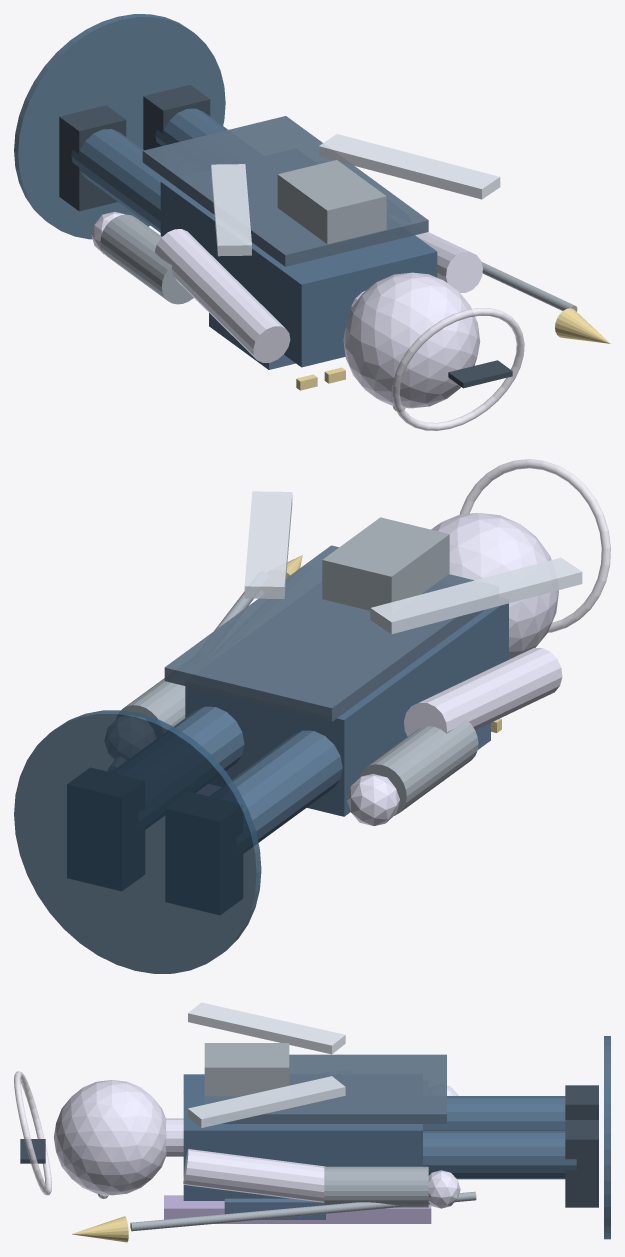
The model's file is SW_NPC_026_asha_voidson.glb.
The picture shows the model from 3 angles, top to bottom: view 1: azimuth 30°, elevation 25°; view 2: azimuth 150°, elevation 25°; view 3: azimuth 270°, elevation 25°; orthographic projection. The views are drawn at different scales.
Parts seen in each view (by area): view 1: round_base_plate, torso_uniform, storm_cloak, head, left_upper_arm, wingpack_core, left_leg, right_wing_rig, left_forearm_gauntlet, left_boot, left_wing_rig, lunar_crescent_ring (+7 smaller); view 2: round_base_plate, storm_cloak, torso_uniform, wingpack_core, head, left_upper_arm, left_leg, left_wing_rig, left_forearm_gauntlet, right_wing_rig, lunar_crescent_ring, right_leg (+2 smaller); view 3: torso_uniform, storm_cloak, head, right_leg, right_upper_arm, wingpack_core, left_leg, right_forearm_gauntlet, right_wing_rig, left_wing_rig, rank_sash, right_boot (+9 smaller).
Boxes of the visible parts, x1,y1,x2,y2 form: round_base_plate: (14,14,225,239); torso_uniform: (160,180,437,367); storm_cloak: (142,116,428,266); head: (343,272,480,408); left_upper_arm: (154,229,290,362); wingpack_core: (277,160,386,244); left_leg: (71,129,166,232); right_wing_rig: (319,134,500,199); left_forearm_gauntlet: (100,214,193,304); left_boot: (59,105,126,211); left_wing_rig: (211,164,251,256); lunar_crescent_ring: (392,308,524,430); round_base_plate: (14,710,261,973); storm_cloak: (164,545,484,721); torso_uniform: (185,603,508,816); wingpack_core: (322,517,449,610); head: (431,513,558,659); left_upper_arm: (404,648,562,736); left_leg: (231,730,342,842); left_wing_rig: (370,557,582,634); left_forearm_gauntlet: (358,719,478,815); right_wing_rig: (244,491,292,598); lunar_crescent_ring: (459,459,610,632); right_leg: (174,706,244,770); torso_uniform: (183,1074,422,1200); storm_cloak: (204,1054,446,1123); head: (53,1080,166,1195); right_leg: (423,1131,576,1179); right_upper_arm: (183,1149,325,1202); wingpack_core: (204,1043,289,1096); left_leg: (423,1096,565,1130); right_forearm_gauntlet: (324,1166,428,1207); right_wing_rig: (188,1076,345,1127); left_wing_rig: (188,1002,345,1054); rank_sash: (164,1195,431,1223); right_boot: (565,1120,598,1207).
Bounding box in the file's own units: 1.19 × 0.7728 × 2.27.
